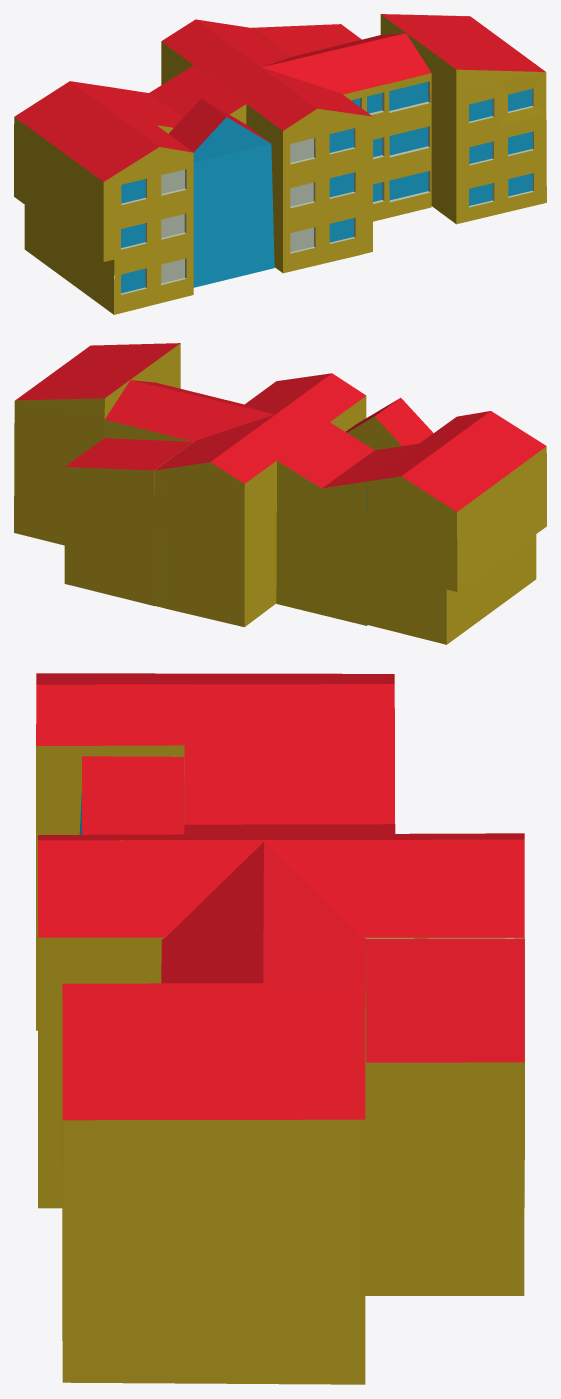
Rendered from practicatextura.fbx.
3 renders of one model, top to bottom at view 1: azimuth 30°, elevation 25°; view 2: azimuth 150°, elevation 25°; view 3: azimuth 270°, elevation 25°, orthographic. The views are drawn at different scales.
Parts seen in each view (by area): view 1: Cube.001; view 2: Cube.001; view 3: Cube.001.
Boxes of the visible parts, box(x1,y1,x2,y2) form: Cube.001: box(14, 14, 546, 314); Cube.001: box(14, 343, 546, 644); Cube.001: box(36, 673, 524, 1384).
Size of the model in its own units: 1285 by 439 by 605.
